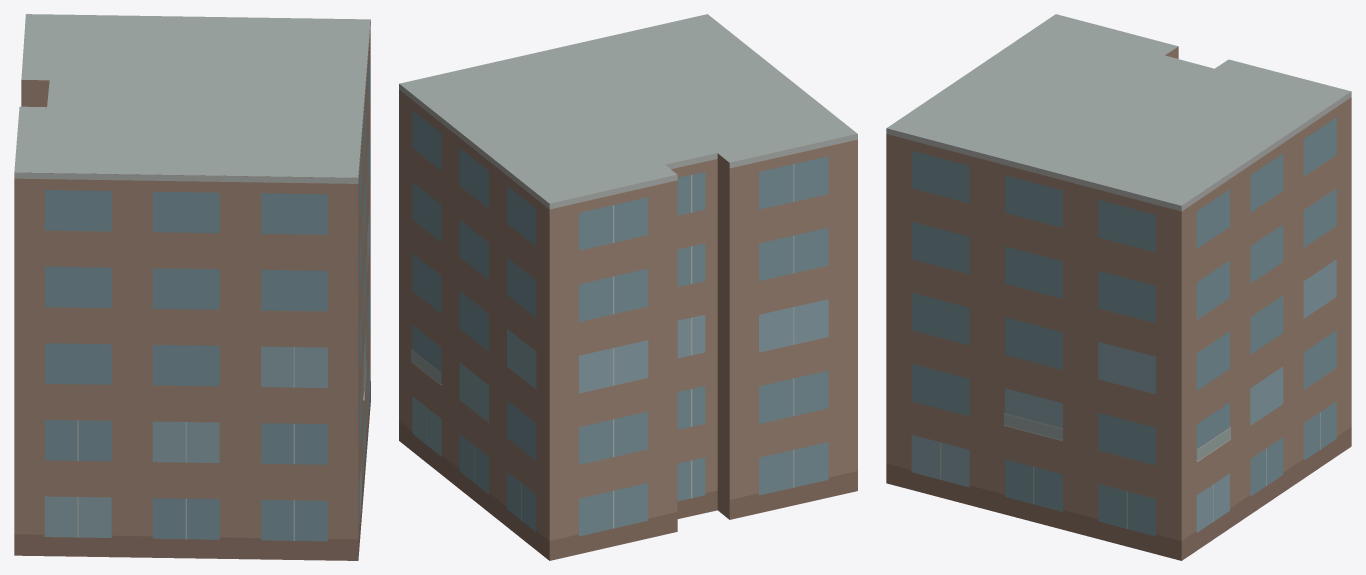
The model's file is survey-upis-32983985.glb.
3 renders of one model, left to right at view 1: azimuth 30°, elevation 25°; view 2: azimuth 150°, elevation 25°; view 3: azimuth 270°, elevation 25°, orthographic. The views are drawn at different scales.
Visible parts, largest first — view 1: survey-upis-32983985.tmp; view 2: survey-upis-32983985.tmp; view 3: survey-upis-32983985.tmp.
Boxes of the visible parts, x1,y1,x2,y2 form: survey-upis-32983985.tmp: (14,14,370,560); survey-upis-32983985.tmp: (399,14,857,560); survey-upis-32983985.tmp: (886,14,1351,560).
Bounding box in the file's own units: 17.62 × 15.2 × 18.06.
